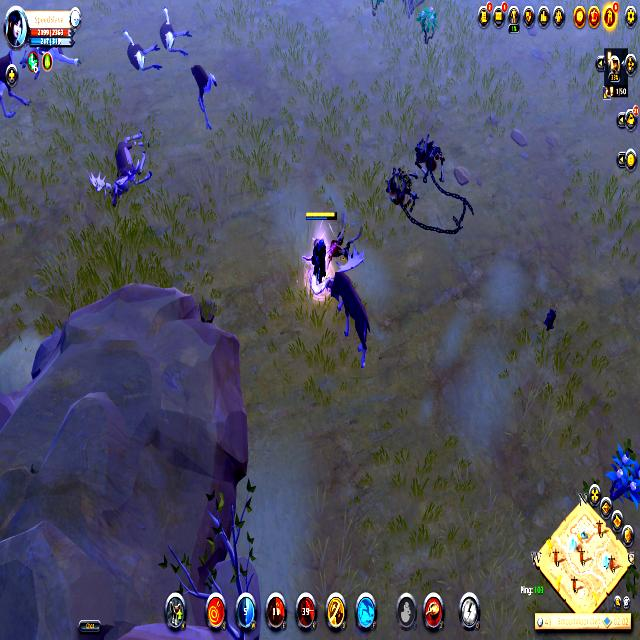hide: (606, 435, 640, 513), (416, 4, 438, 46)
mob: (86, 127, 156, 211), (119, 27, 164, 77), (158, 2, 189, 63)
ore: (313, 234, 381, 374), (189, 57, 223, 140)
red: (302, 207, 340, 298)
